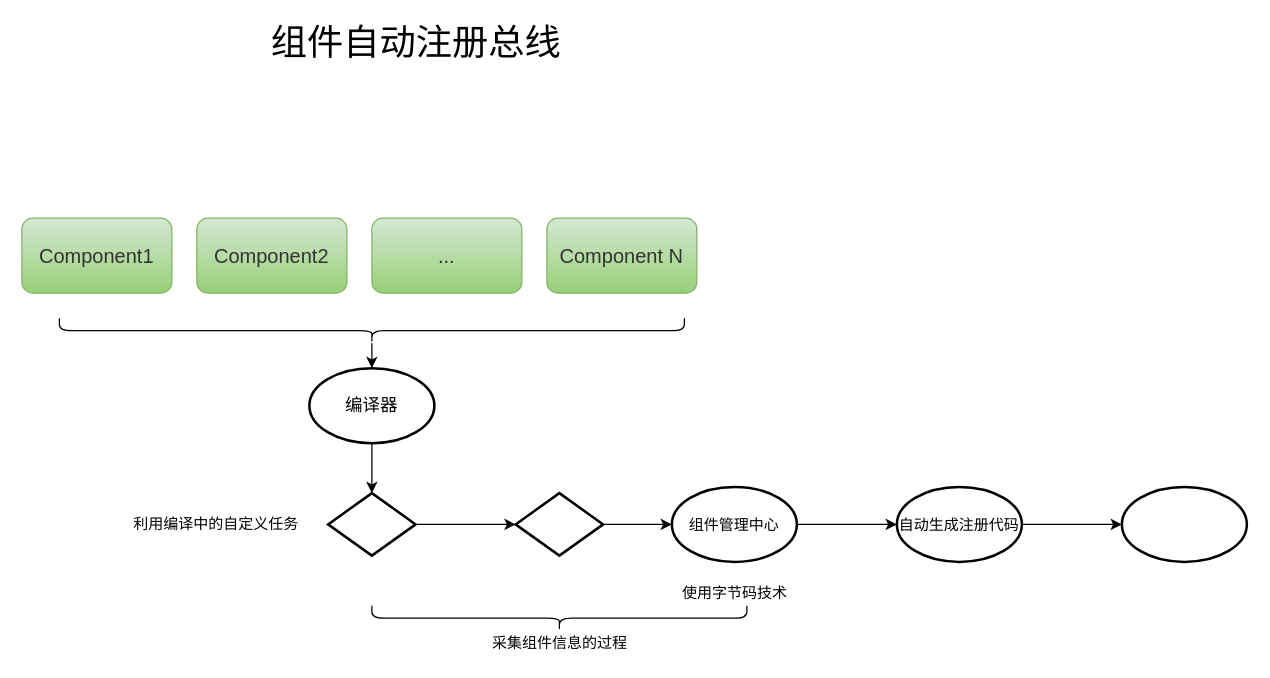
Image size: 1270x678. Some labels were removed from this diagram. The box of each missing label's shape, as (x1, y1, x2, y2) in pixels:
应用启动的时候自动完成注册: (1120, 485, 1248, 562)
组件核心class: (326, 491, 416, 556)
进行二次校验: (514, 491, 604, 556)
